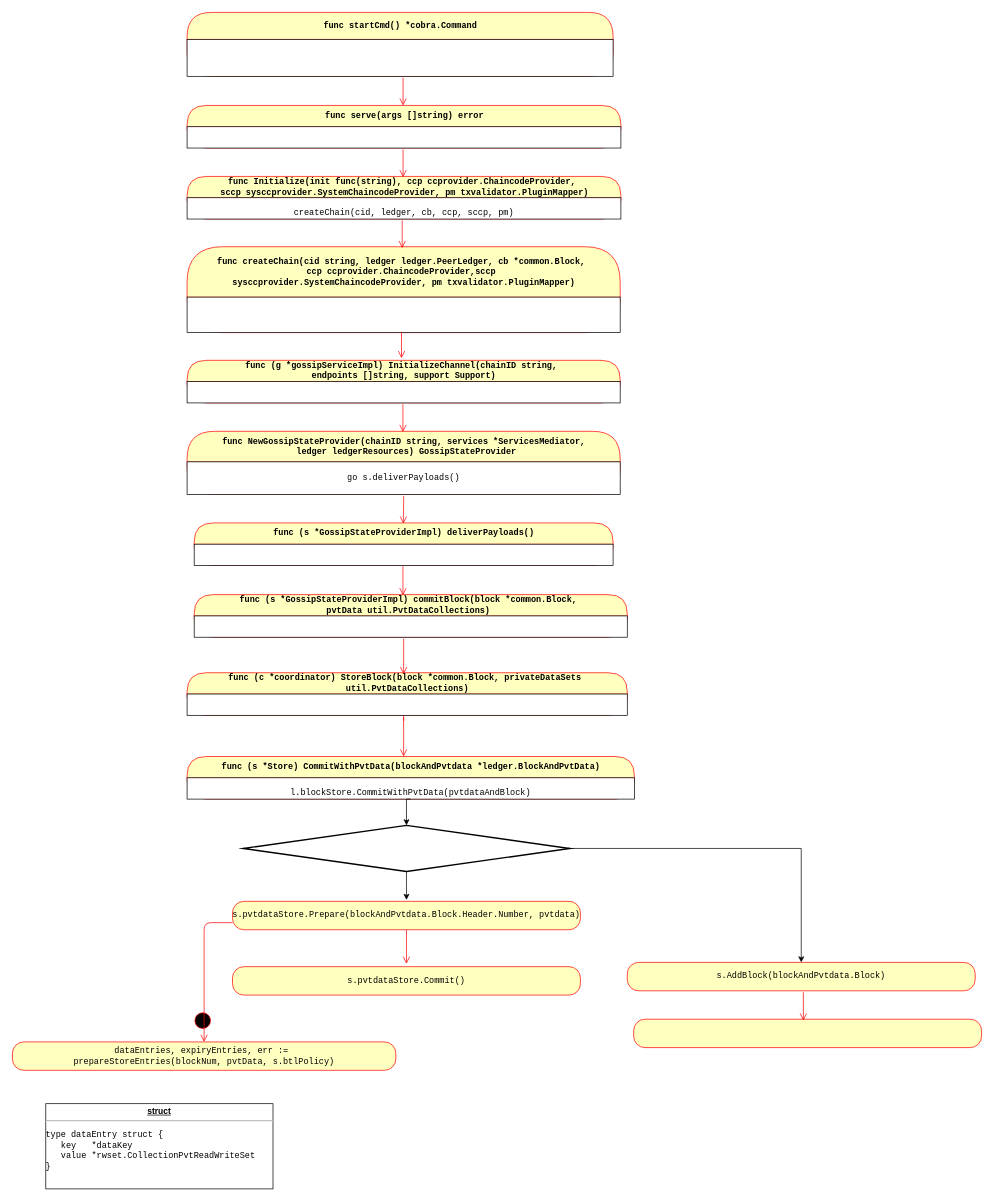
Some shapes in this 994 by 1201 pixel diagram are drawn without their labels. Each missing label, with the centre of its shape:
"CommitWithPvtData(blockAndPvtData)" goes at point (406, 704).
"nodeStartCmd var nodeStartCmd = &cobra.Command" goes at point (399, 57).
"peer.Initialize( func (cid string)" goes at point (403, 137).
"pvtBlkStoreHt < blockNum+ 1" goes at point (406, 848).
"s.commitBlock(rawBlock, p)" goes at point (403, 555).
"s.ledger.StoreBlock(block, pvtData)" goes at point (410, 626).
"service.GetGossipService().InitializeChannel" goes at point (403, 314).
"state.NewGossipStateProvider(chainID, servicesAdapter, coordinator)" goes at point (403, 392).
"store.fileMgr.addBlock(block)" goes at point (807, 1033).
